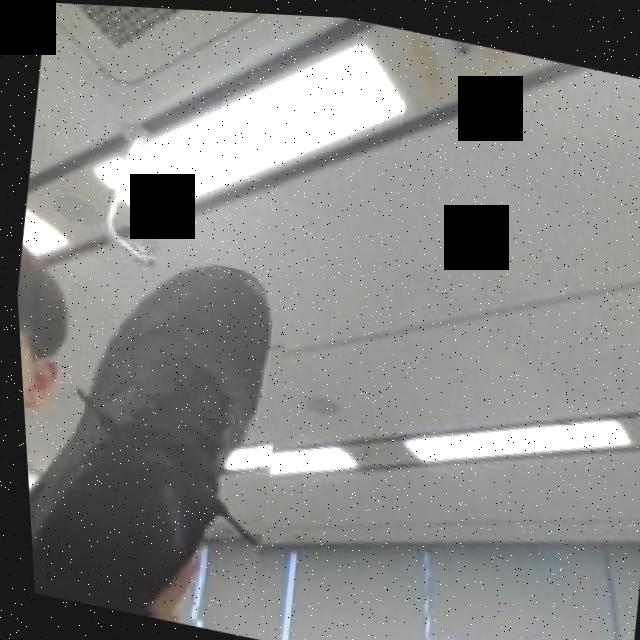shoe: (10, 205, 309, 639)
